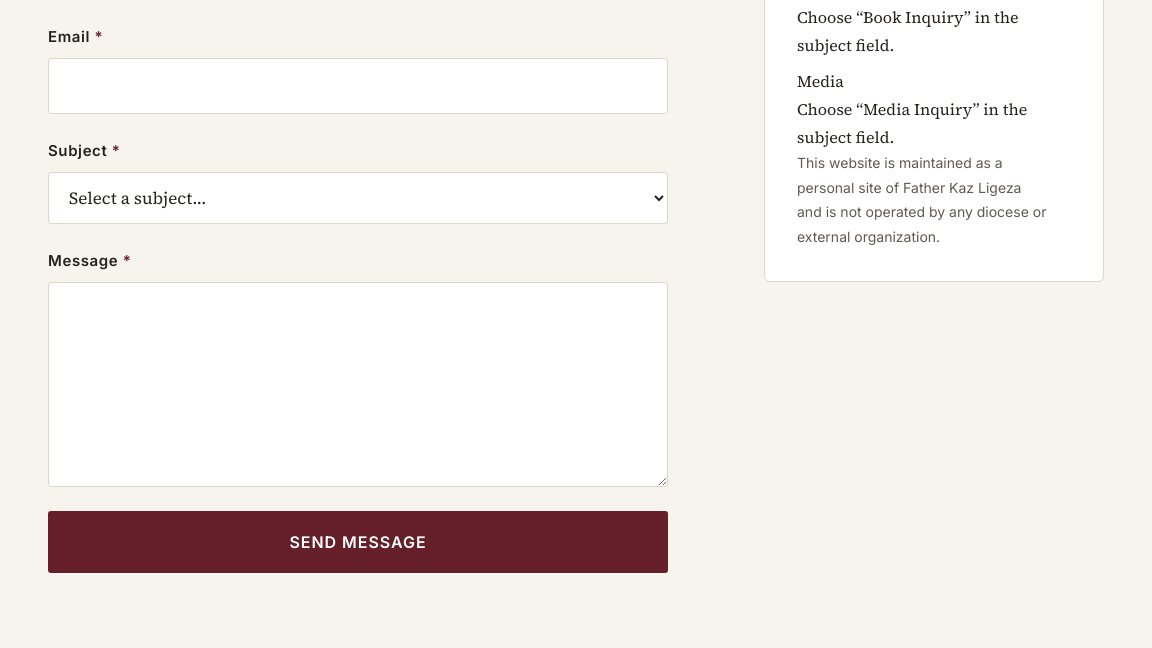
Scenario: Contact — validation › shows field errors on empty submit and marks fields invalid
(page scrolled)
Click the button "Send Message" at (358, 542), box [48,511,668,573]
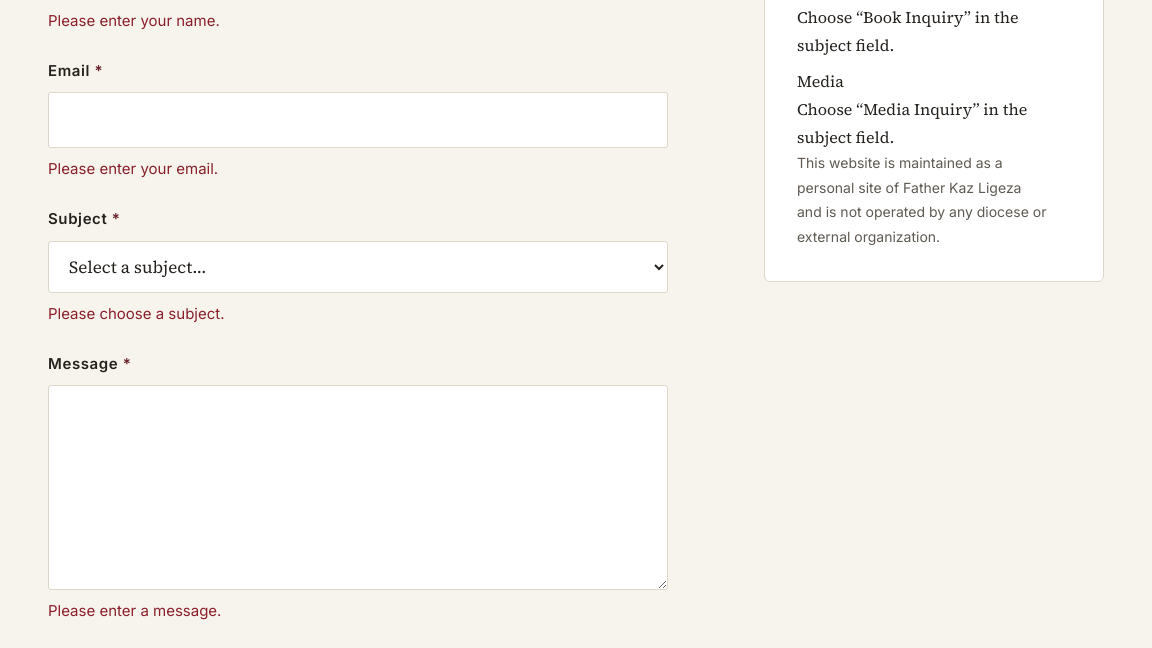
Result: the text "Please enter your name." is shown at [48,11,220,30]
Result: the text "Please enter your email." is shown at [48,159,218,178]
Result: the text "Please choose a subject." is shown at [48,304,224,323]
